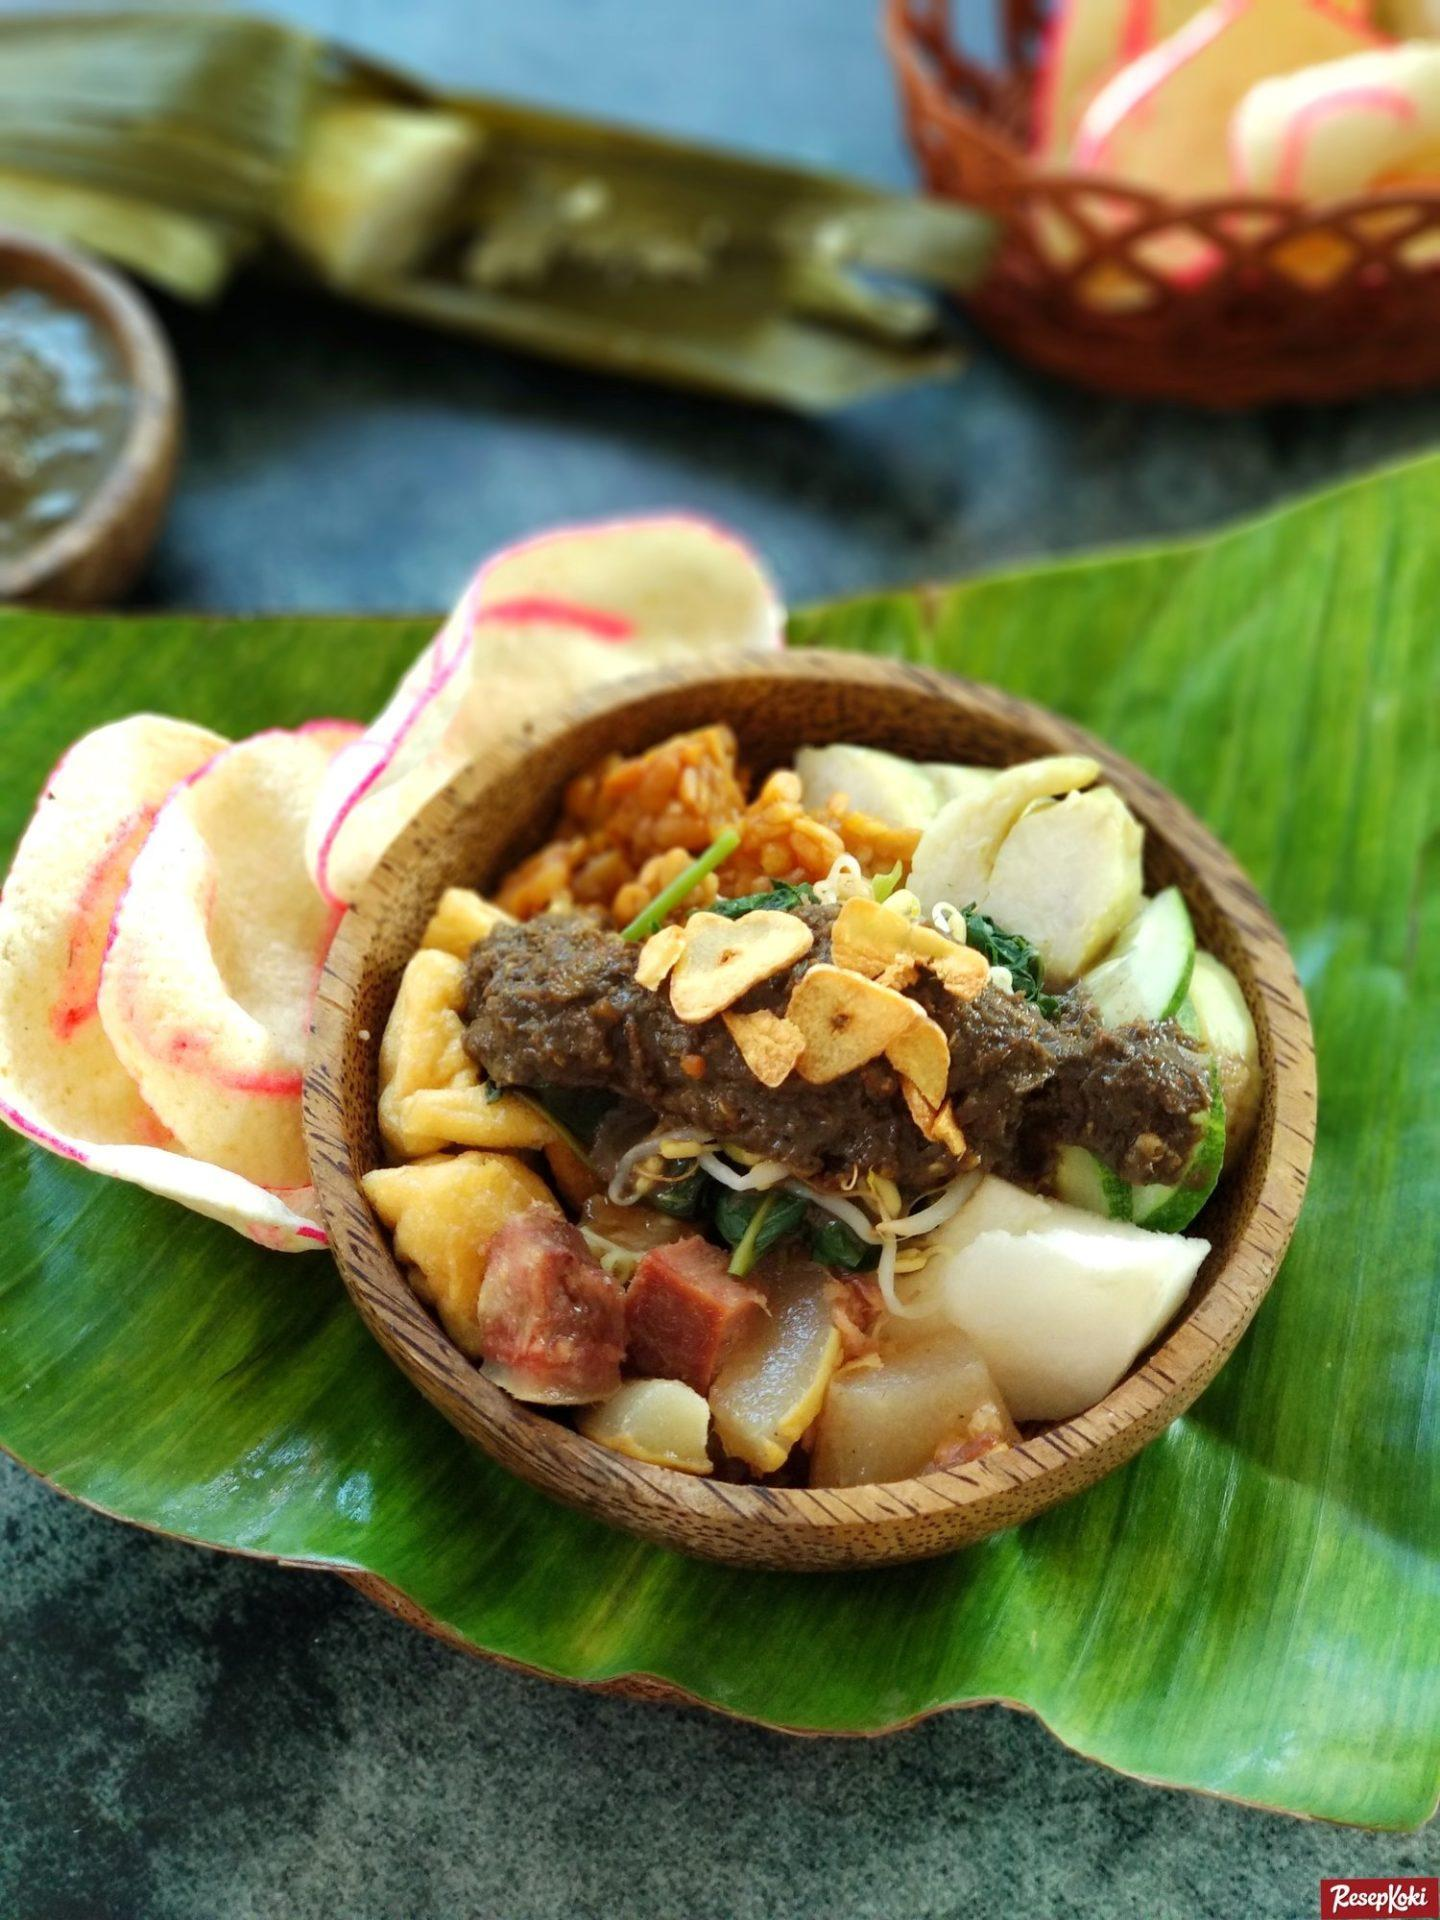rujak_cingur: (362, 727, 1268, 1474)
